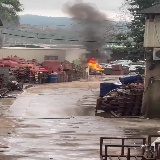fire: (88, 58, 104, 70)
